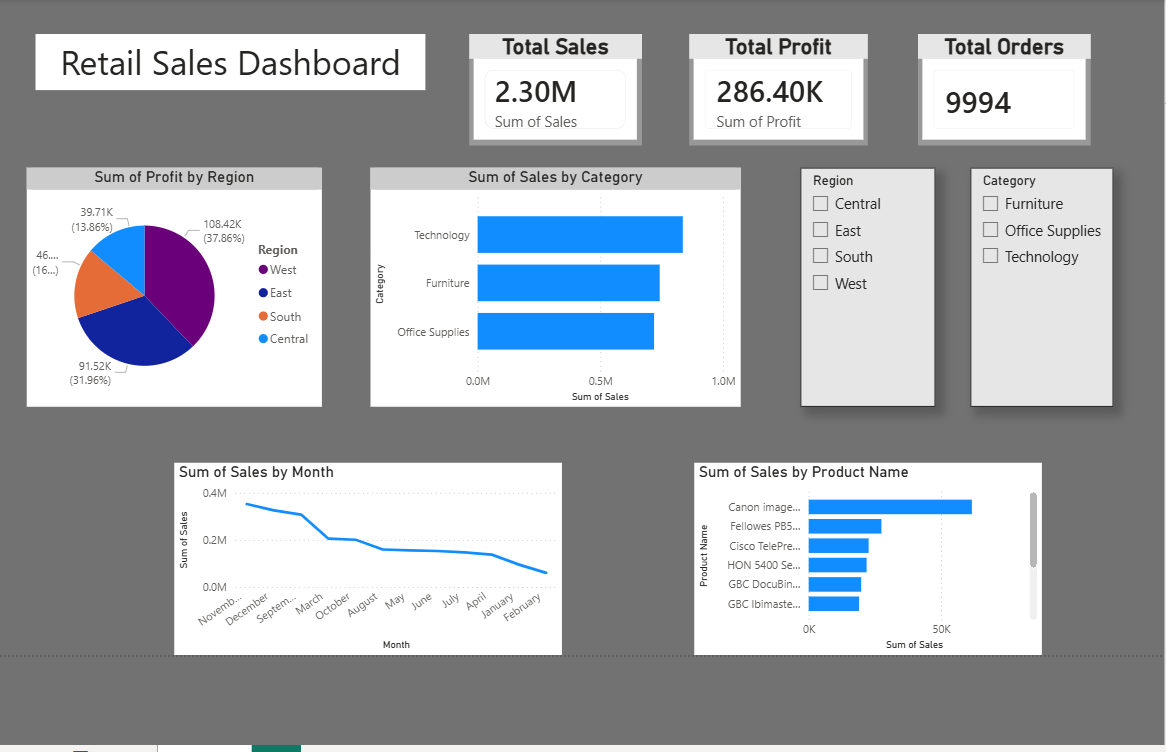

The dashboard page shown, as its layout file describes it:
{"tool":"powerbi","page":{"name":"Page 1","canvas":[1280,720],"ordinal":0},"visuals":[{"type":"cardVisual","title":"Total Sales","fields":{"Data":["Sum(Cleaned_sales_data.Sales)"]},"box":[517.3,38.4,189.4,122.1],"z":0},{"type":"cardVisual","title":"Total Profit","fields":{"Data":["Sum(Cleaned_sales_data.Profit)"]},"box":[758.8,38.4,196.2,122.1],"z":1000},{"type":"cardVisual","title":"Total Orders","fields":{"Data":["CountNonNull(Cleaned_sales_data.Order ID)"]},"box":[1010,38.4,189.4,122.1],"z":2000},{"type":"lineChart","fields":{"Category":["Cleaned_sales_data.Month"],"Y":["Sum(Cleaned_sales_data.Sales)"]},"box":[193.5,509.1,425.4,211.3],"z":2002},{"type":"barChart","fields":{"Category":["Cleaned_sales_data.Category"],"Y":["Sum(Cleaned_sales_data.Sales)"]},"box":[408.9,185.2,406.2,262.1],"z":2003},{"type":"pieChart","fields":{"Category":["Cleaned_sales_data.Region"],"Y":["Sum(Cleaned_sales_data.Profit)"]},"box":[31.6,185.2,323.8,262.1],"z":2004},{"type":"clusteredBarChart","fields":{"Category":["Cleaned_sales_data.Product Name"],"Y":["Sum(Cleaned_sales_data.Sales)"]},"box":[764.3,509.1,381.5,211.3],"z":2005},{"type":"slicer","fields":{"Values":["Cleaned_sales_data.Region"]},"box":[881,185.2,148.2,262.1],"z":2006},{"type":"slicer","fields":{"Values":["Cleaned_sales_data.Category"]},"box":[1067.6,185.2,156.4,262.1],"z":2007},{"type":"textbox","box":[41.2,38.4,428.1,61.7],"z":2008}]}

Visuals, with their boxes in screenshot pixels (x1, y1, x2, y2):
"Total Sales" cardVisual: Rect(471, 38, 641, 147)
"Total Profit" cardVisual: Rect(688, 38, 864, 147)
"Total Orders" cardVisual: Rect(913, 38, 1084, 147)
lineChart - Cleaned_sales_data.Month x Sum(Cleaned_sales_data.Sales): Rect(180, 460, 562, 650)
barChart - Cleaned_sales_data.Category x Sum(Cleaned_sales_data.Sales): Rect(373, 169, 738, 405)
pieChart - Cleaned_sales_data.Region x Sum(Cleaned_sales_data.Profit): Rect(34, 169, 325, 405)
clusteredBarChart - Cleaned_sales_data.Product Name x Sum(Cleaned_sales_data.Sales): Rect(693, 460, 1035, 650)
slicer - Cleaned_sales_data.Region: Rect(798, 169, 931, 405)
slicer - Cleaned_sales_data.Category: Rect(965, 169, 1106, 405)
textbox: Rect(43, 38, 428, 93)
